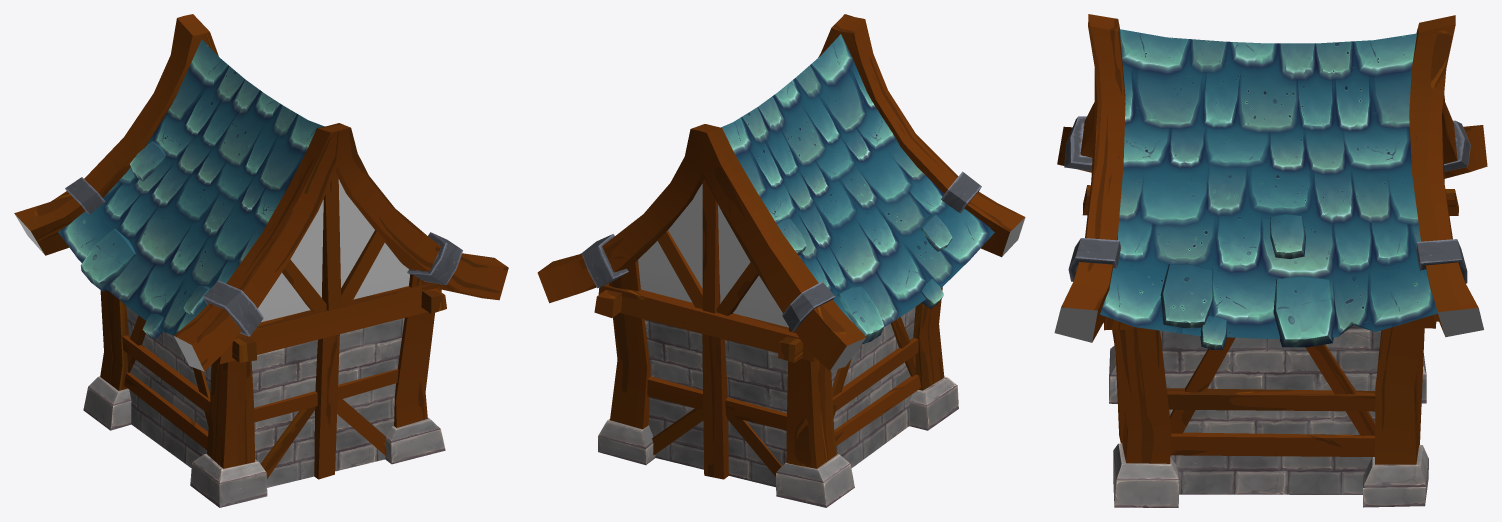
File: SM_BLD_body_v02_01.fbx
The picture shows the model from 3 angles, left to right: view 1: azimuth 30°, elevation 25°; view 2: azimuth 150°, elevation 25°; view 3: azimuth 270°, elevation 25°; orthographic projection. The views are drawn at different scales.
Parts seen in each view (by area): view 1: SM_BLD_body_v02_01; view 2: SM_BLD_body_v02_01; view 3: SM_BLD_body_v02_01.
Boxes of the visible parts, x1,y1,x2,y2 form: SM_BLD_body_v02_01: [14, 14, 508, 507]; SM_BLD_body_v02_01: [537, 14, 1025, 507]; SM_BLD_body_v02_01: [1054, 14, 1487, 507].
Size of the model in its own units: 791 by 847 by 788.
